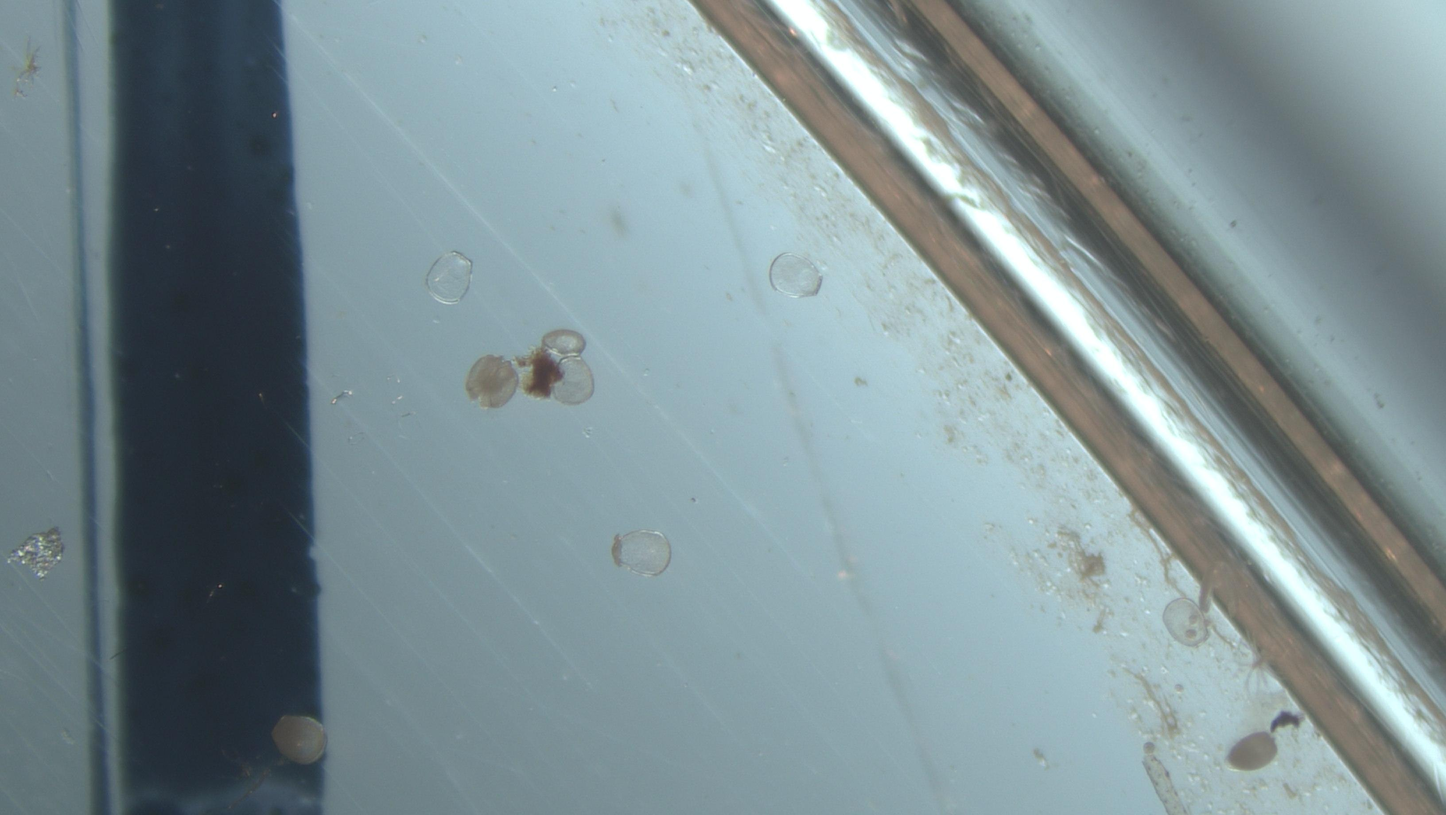dead: (610, 530, 671, 577), (426, 251, 472, 304), (769, 252, 822, 298), (551, 357, 594, 406), (542, 330, 586, 359)
live: (465, 355, 520, 409), (272, 716, 327, 765), (1227, 732, 1278, 771)
